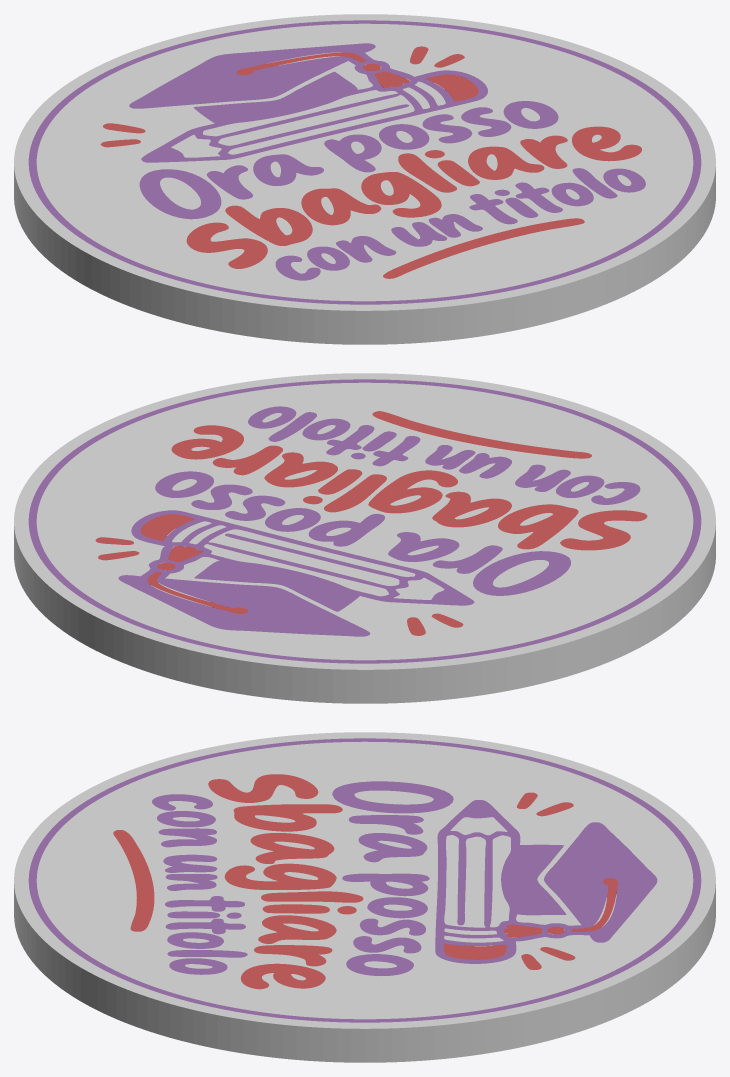
The model's file is sottobicchiere-sbagliare-con-titolo.glb.
3 views of the same model, one above another, from view 1: azimuth 30°, elevation 25°; view 2: azimuth 150°, elevation 25°; view 3: azimuth 270°, elevation 25° (orthographic).
Visible parts, largest first — view 1: coaster_base, coaster_ink, coaster_accent; view 2: coaster_base, coaster_ink, coaster_accent; view 3: coaster_base, coaster_ink, coaster_accent.
Part boxes in pixels (box(x1,y1,x2,y2)): coaster_base: box(14, 14, 715, 344); coaster_ink: box(28, 20, 701, 304); coaster_accent: box(100, 46, 641, 278); coaster_base: box(14, 373, 715, 703); coaster_ink: box(28, 379, 701, 663); coaster_accent: box(95, 411, 647, 635); coaster_base: box(14, 732, 715, 1062); coaster_ink: box(28, 738, 701, 1022); coaster_accent: box(113, 774, 618, 989).
Size of the model in its own units: 0.075 by 0.004 by 0.075.
